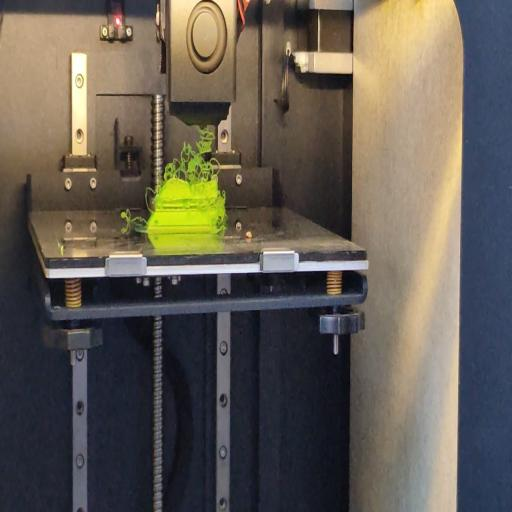spaghetti: (165, 127, 220, 184), (118, 208, 144, 223), (144, 183, 156, 208), (218, 224, 228, 236)
